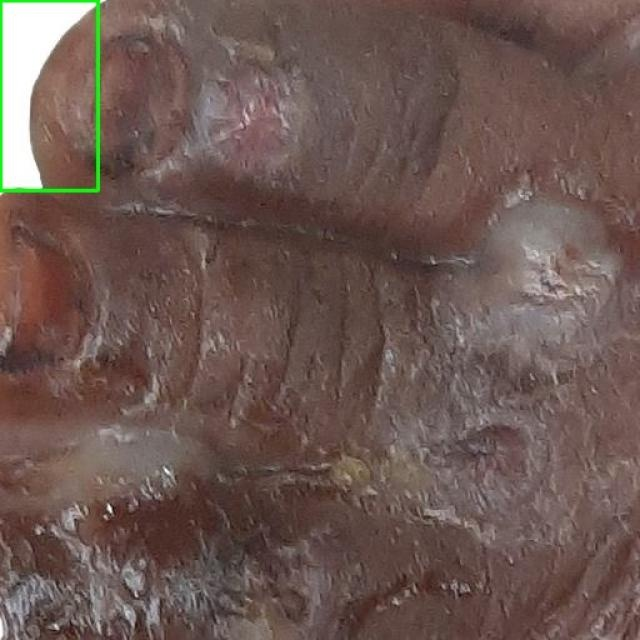Eczema: (0, 0, 98, 190)
